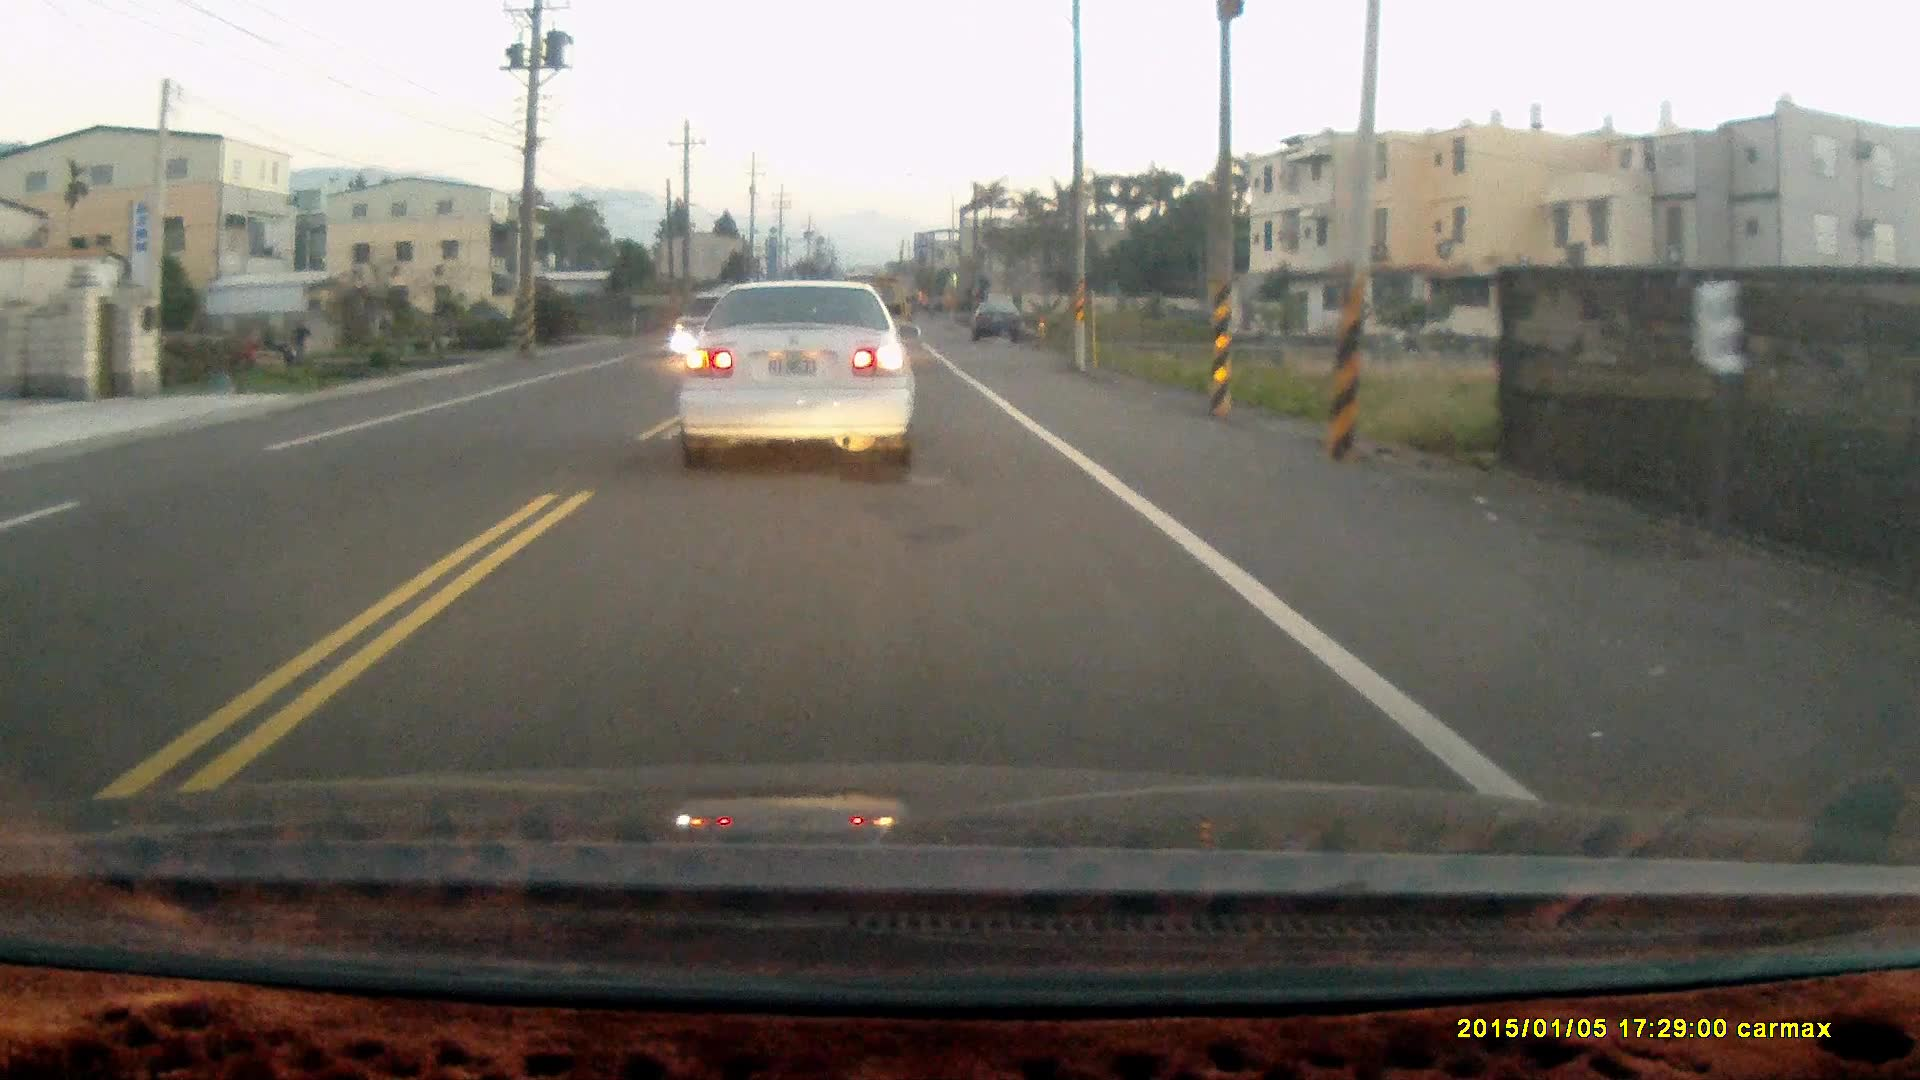pedestrian: (290, 318, 310, 367), (239, 335, 259, 378)
vehicle: (681, 280, 921, 469), (666, 290, 766, 379), (969, 300, 1027, 345)
